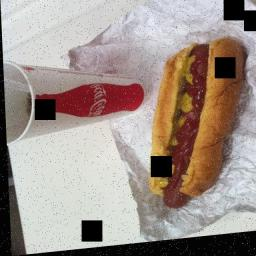hotdog: (142, 39, 249, 214)
